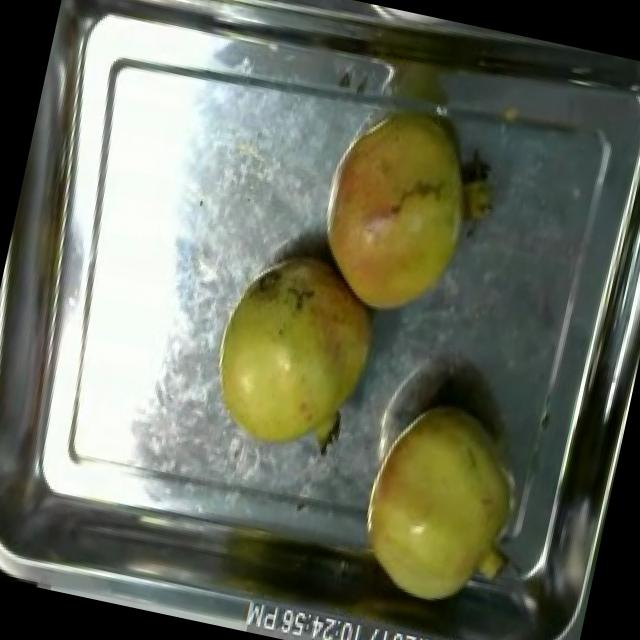fruit: (182, 227, 402, 482), (298, 92, 512, 341), (339, 382, 543, 622)
